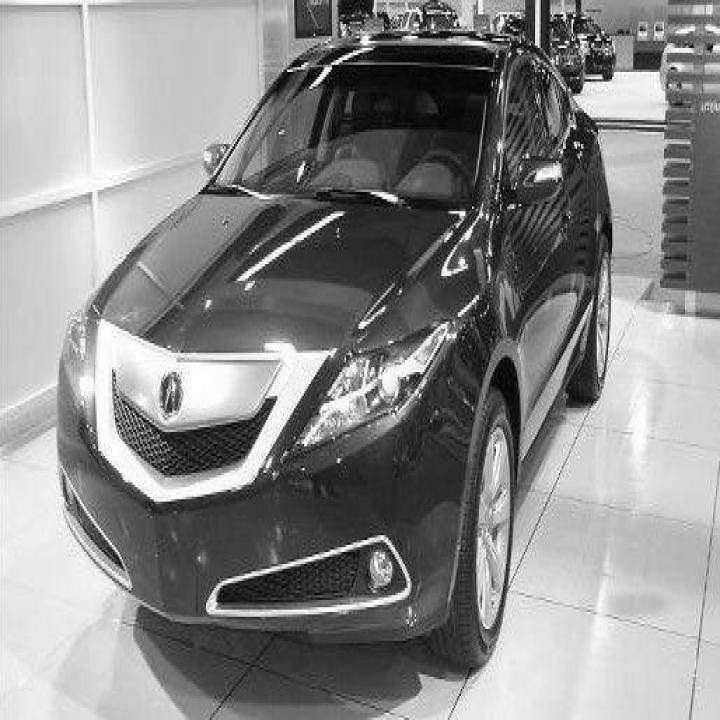car: (55, 26, 614, 670), (659, 24, 720, 108)
